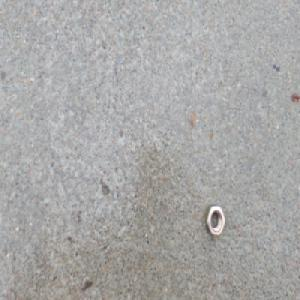Nut: (202, 203, 225, 241)
